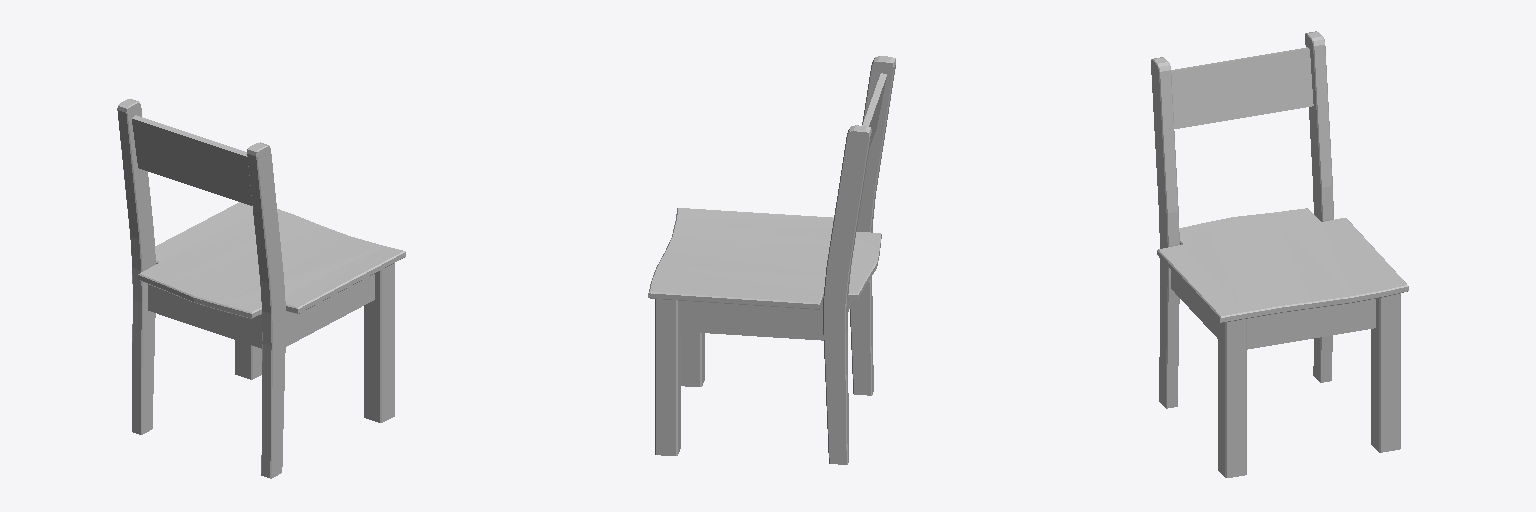
The model's file is station_chair.obj.
3 views of the same model, side by side, from view 1: azimuth 30°, elevation 25°; view 2: azimuth 150°, elevation 25°; view 3: azimuth 270°, elevation 25° (orthographic).
Parts seen in each view (by area): view 1: chair.002; view 2: chair.002; view 3: chair.002.
Boxes of the visible parts, x1,y1,x2,y2 form: chair.002: [117, 99, 405, 478]; chair.002: [648, 56, 895, 464]; chair.002: [1151, 31, 1408, 477].
Bounding box in the file's own units: 3.14 × 4.17 × 2.91.